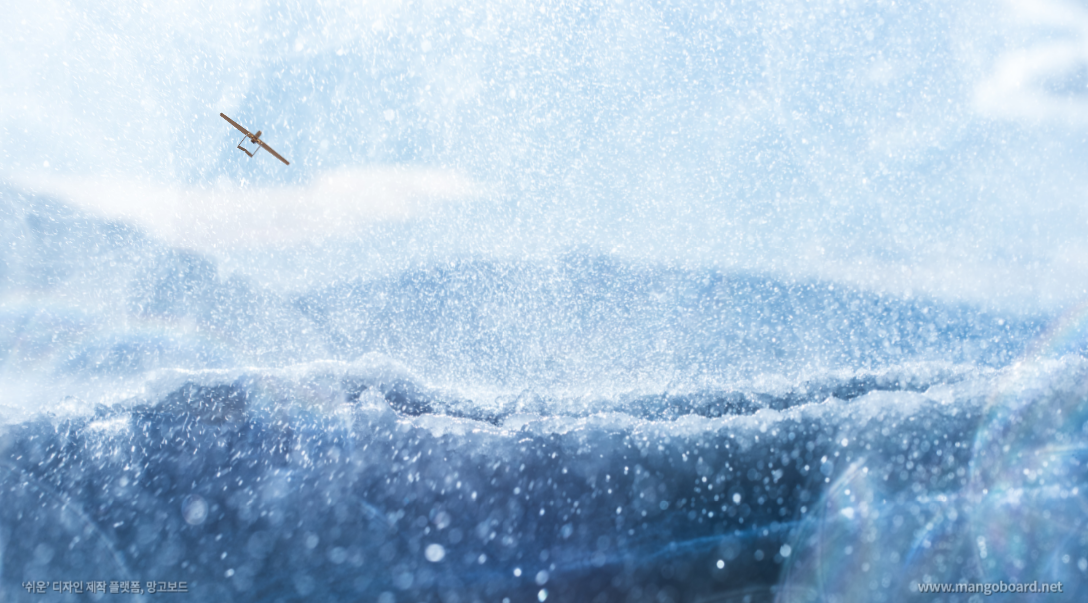military drone: (219, 112, 290, 165)
